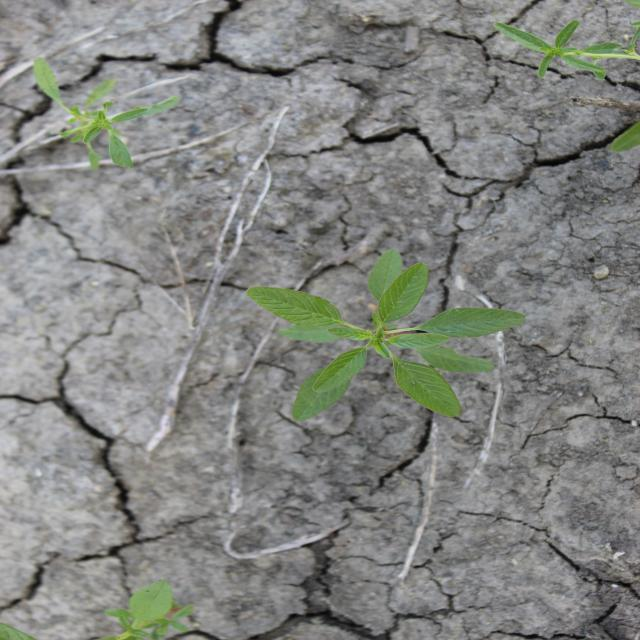Waterhemp: (244, 247, 529, 423), (32, 56, 181, 172), (490, 21, 634, 80)
